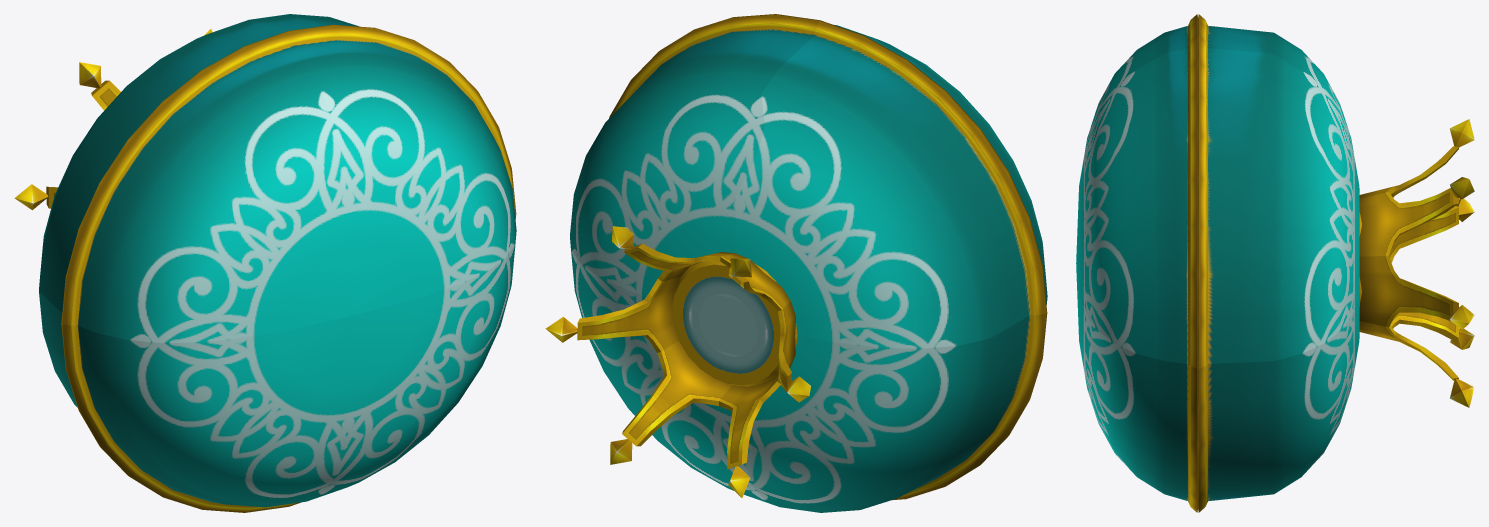
The model's file is JewelryBox_Piece.FBX.
The picture shows the model from 3 angles, left to right: view 1: azimuth 30°, elevation 25°; view 2: azimuth 150°, elevation 25°; view 3: azimuth 270°, elevation 25°; orthographic projection. The views are drawn at different scales.
Parts seen in each view (by area): view 1: polySurface426, polySurface427, polySurface425, polySurface428, polySurface423, polySurface424; view 2: polySurface425, polySurface423, polySurface424, polySurface428, polySurface422, polySurface411, polySurface426; view 3: polySurface424, polySurface426, polySurface422, polySurface427, polySurface428, polySurface425.
Part boxes in pixels (bbox=[...]): polySurface426: bbox=[62, 25, 516, 342]; polySurface427: bbox=[62, 214, 516, 512]; polySurface425: bbox=[39, 20, 288, 323]; polySurface428: bbox=[14, 29, 212, 210]; polySurface423: bbox=[39, 291, 127, 475]; polySurface424: bbox=[249, 14, 414, 40]; polySurface425: bbox=[735, 21, 1046, 348]; polySurface423: bbox=[745, 314, 1046, 512]; polySurface424: bbox=[570, 14, 818, 296]; polySurface428: bbox=[545, 226, 810, 497]; polySurface422: bbox=[571, 251, 775, 505]; polySurface411: bbox=[672, 255, 797, 386]; polySurface426: bbox=[669, 14, 1047, 312]; polySurface424: bbox=[1198, 37, 1359, 368]; polySurface426: bbox=[1076, 14, 1197, 368]; polySurface422: bbox=[1198, 293, 1359, 512]; polySurface427: bbox=[1076, 267, 1197, 512]; polySurface428: bbox=[1359, 119, 1474, 407]; polySurface425: bbox=[1198, 14, 1359, 194].
Bounding box in the file's own units: 236 × 236 × 189.
